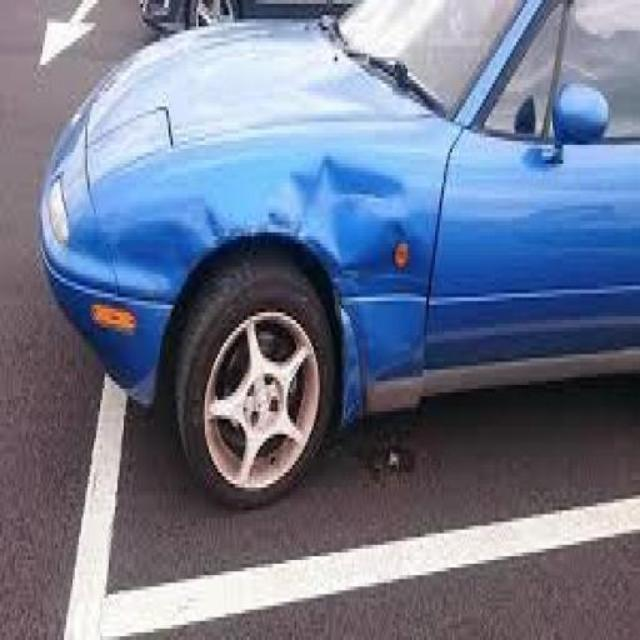dent: (126, 148, 435, 387)
